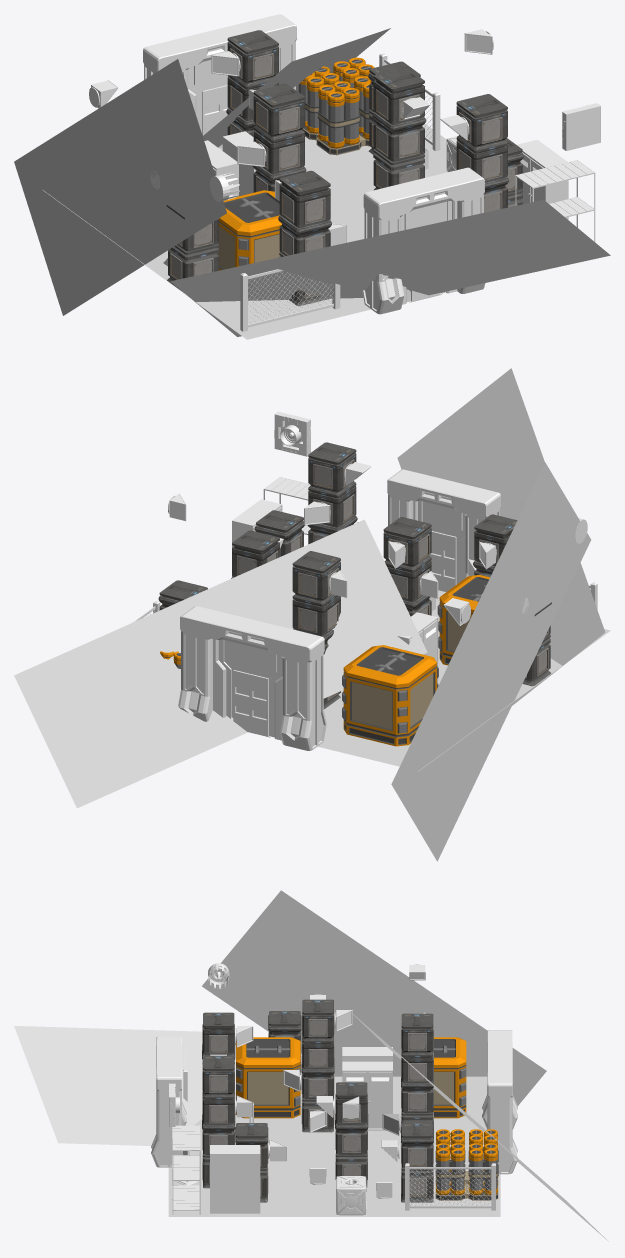
File: Nivel 5.fbx
The picture shows the model from 3 angles, top to bottom: view 1: azimuth 30°, elevation 25°; view 2: azimuth 150°, elevation 25°; view 3: azimuth 270°, elevation 25°; orthographic projection. The views are drawn at different scales.
Visible parts, largest first — view 1: Parede.014, Parede.013, Chão, Porta, Porta.001, Palete, Coluna.004, Coluna.002, Coluna, Coluna.001, CaixaGrande.001, Coluna.003 (+17 smaller); view 2: Parede.012, Parede.014, Porta.001, Parede.013, CaixaGrande, Porta, Coluna.003, Coluna, Coluna.002, Chão, CaixaGrande.001, Coluna.004 (+8 smaller); view 3: Parede.014, Parede.013, Chão, CaixaGrande.001, Palete, Coluna.002, Coluna.003, Porta.001, Armario, Coluna, Porta, Coluna.004 (+11 smaller).
Part boxes in pixels (x1,y1,x2,y2): Parede.014: (14, 59, 226, 315); Parede.013: (170, 199, 610, 336); Chão: (43, 124, 447, 339); Porta: (362, 167, 485, 314); Porta.001: (143, 14, 297, 148); Palete: (298, 57, 374, 155); Coluna.004: (372, 67, 426, 190); Coluna.002: (252, 83, 306, 192); Coluna: (456, 94, 508, 212); Coluna.001: (278, 170, 331, 306); CaixaGrande.001: (217, 190, 281, 270); Coluna.003: (226, 30, 278, 136); Parede.012: (14, 519, 427, 808); Parede.014: (391, 462, 591, 861); Porta.001: (178, 606, 326, 750); Parede.013: (397, 368, 605, 705); CaixaGrande: (342, 645, 438, 746); Porta: (387, 469, 500, 591); Coluna.003: (292, 551, 340, 709); Coluna: (307, 442, 357, 544); Coluna.002: (383, 517, 431, 616); Chão: (318, 590, 610, 771); CaixaGrande.001: (437, 575, 489, 665); Coluna.004: (231, 530, 279, 578); Parede.014: (202, 890, 546, 1105); Parede.013: (14, 1026, 235, 1145); Chão: (168, 1076, 500, 1216); CaixaGrande.001: (236, 1037, 300, 1118); Palete: (435, 1129, 498, 1200); Coluna.002: (301, 999, 334, 1132); Coluna.003: (401, 1013, 433, 1127); Porta.001: (482, 1030, 517, 1174); Armario: (210, 1145, 260, 1213); Coluna: (202, 1055, 235, 1188); Porta: (151, 1036, 186, 1167); Coluna.004: (335, 1082, 368, 1187).
Bounding box in the file's own units: 12.03 × 9.22 × 18.02.
6 materials, 1 textured.
